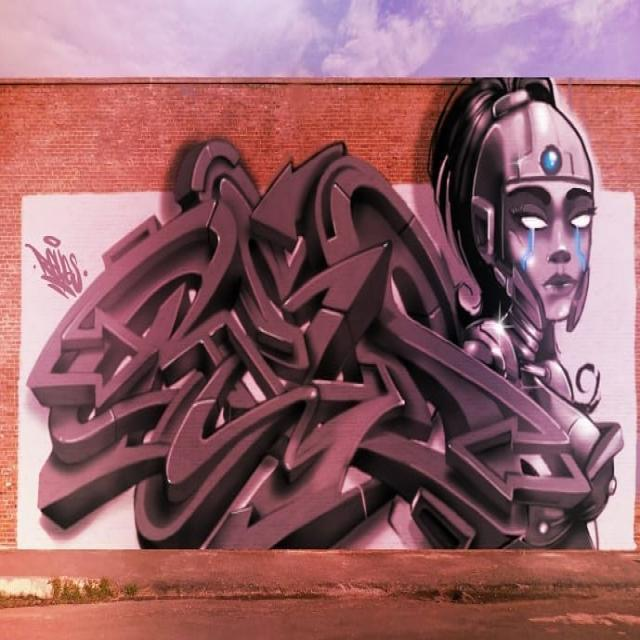-: (44, 138, 586, 556), (43, 140, 586, 550), (434, 72, 618, 533)
